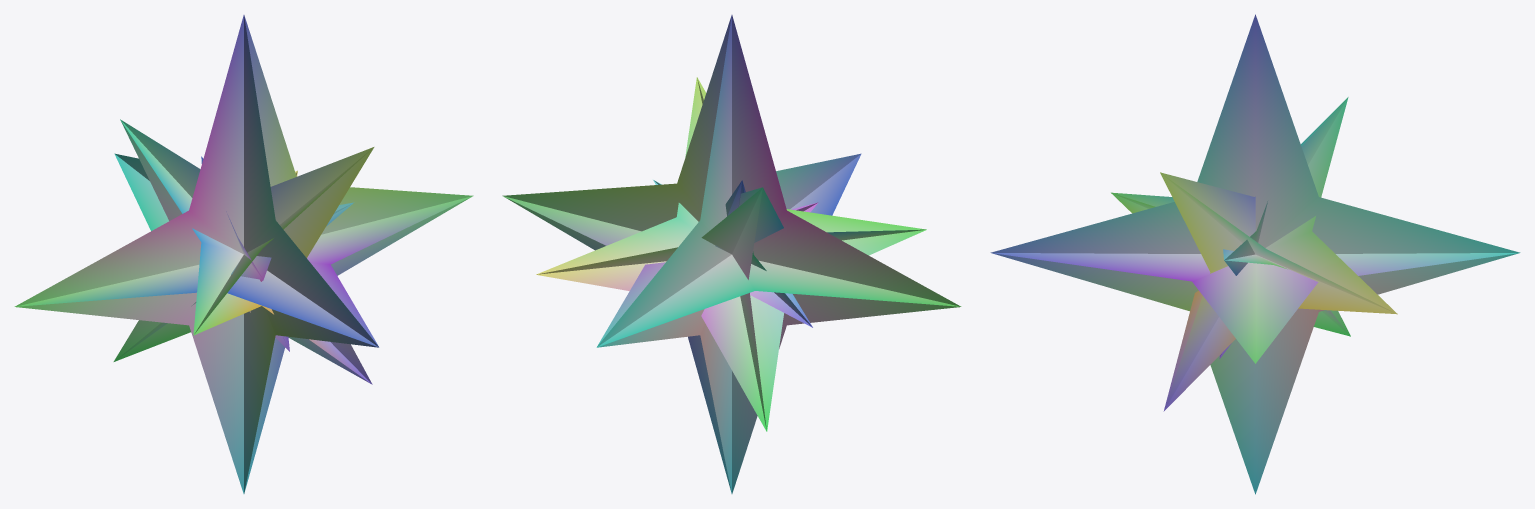
File: space-stars-star_v13.glb
3 renders of one model, left to right at view 1: azimuth 30°, elevation 25°; view 2: azimuth 150°, elevation 25°; view 3: azimuth 270°, elevation 25°, orthographic.
Parts seen in each view (by area): view 1: Star_v13; view 2: Star_v13; view 3: Star_v13.
Part boxes in pixels (x1,y1,x2,y2): Star_v13: (14, 15, 473, 493); Star_v13: (502, 15, 961, 493); Star_v13: (990, 14, 1520, 494).
Bounding box in the file's own units: 0.5 × 0.5 × 0.5.
